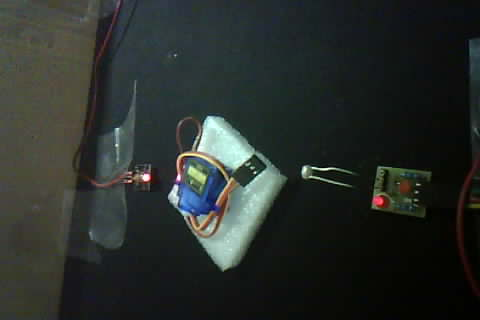motor: (161, 112, 273, 250)
